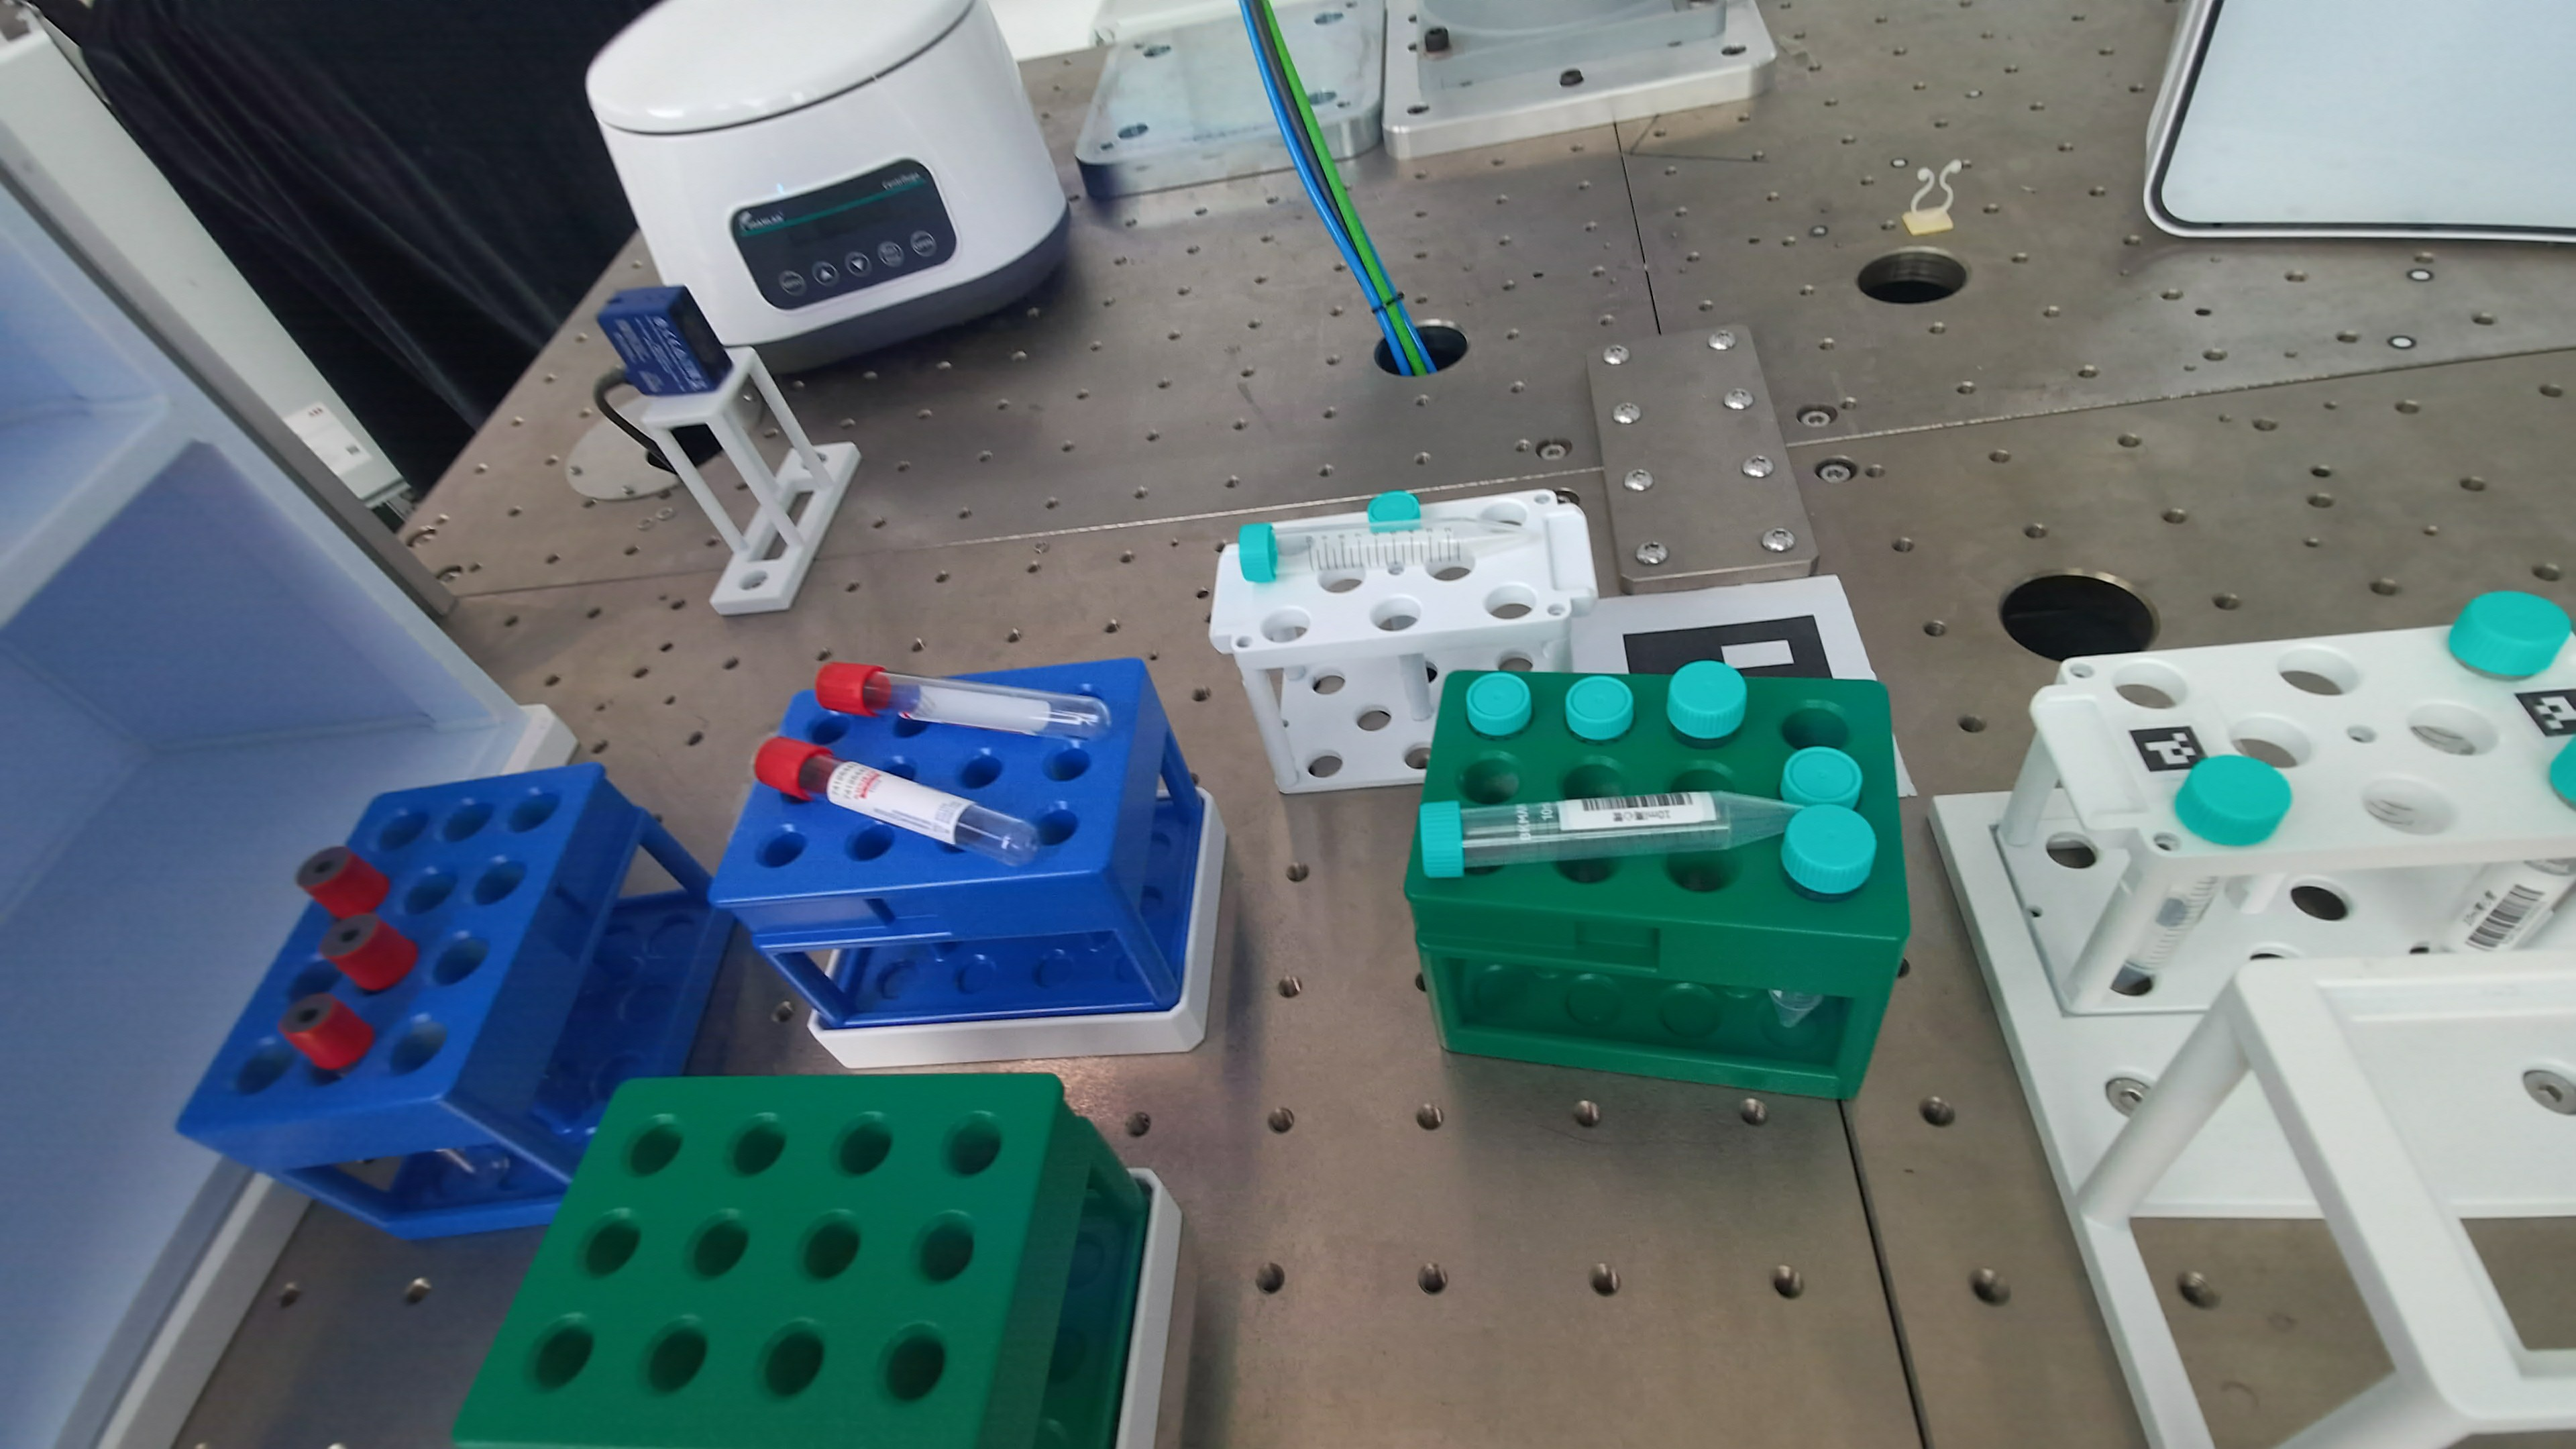10ML_centrifuge_tube: (1420, 792, 1801, 877), (1239, 509, 1521, 590), (2448, 591, 2572, 678), (2175, 755, 2292, 847), (1781, 804, 1876, 896), (1667, 661, 1747, 741)
10ML_sorting_tube_rack: (178, 763, 732, 1238), (710, 658, 1203, 1028)
5ML_centrifuge_tube: (1782, 747, 1862, 808), (1565, 675, 1633, 741), (1466, 671, 1532, 737)
5ML_sorting_tube_rack: (455, 1075, 1148, 1446), (1405, 672, 1909, 1097)
blood_tube: (754, 737, 1040, 864), (815, 663, 1110, 737), (319, 913, 419, 991), (279, 993, 374, 1072), (297, 847, 390, 919)
centrifuge_close: (587, 0, 1069, 605)
dispensing_tube_rack: (1933, 627, 2576, 1446), (1210, 491, 1597, 792)
refrigerator_close: (2144, 0, 2576, 243)
sorting_tube_rack_base: (777, 796, 1226, 1069), (1116, 1169, 1182, 1449)
tube_rack_storage_cabinet: (0, 97, 566, 1445)
